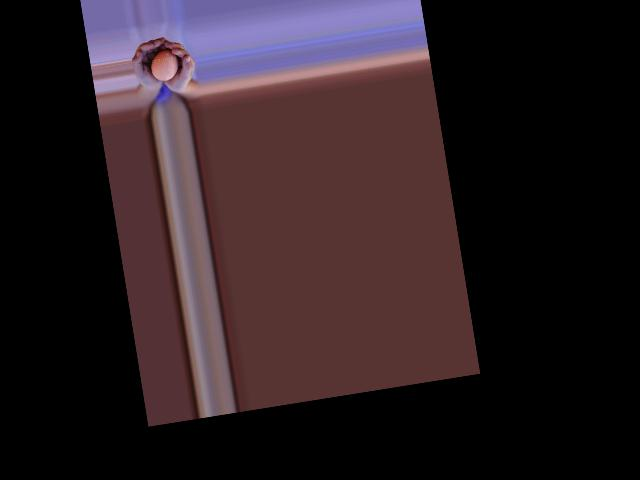egg: (147, 48, 180, 83)
